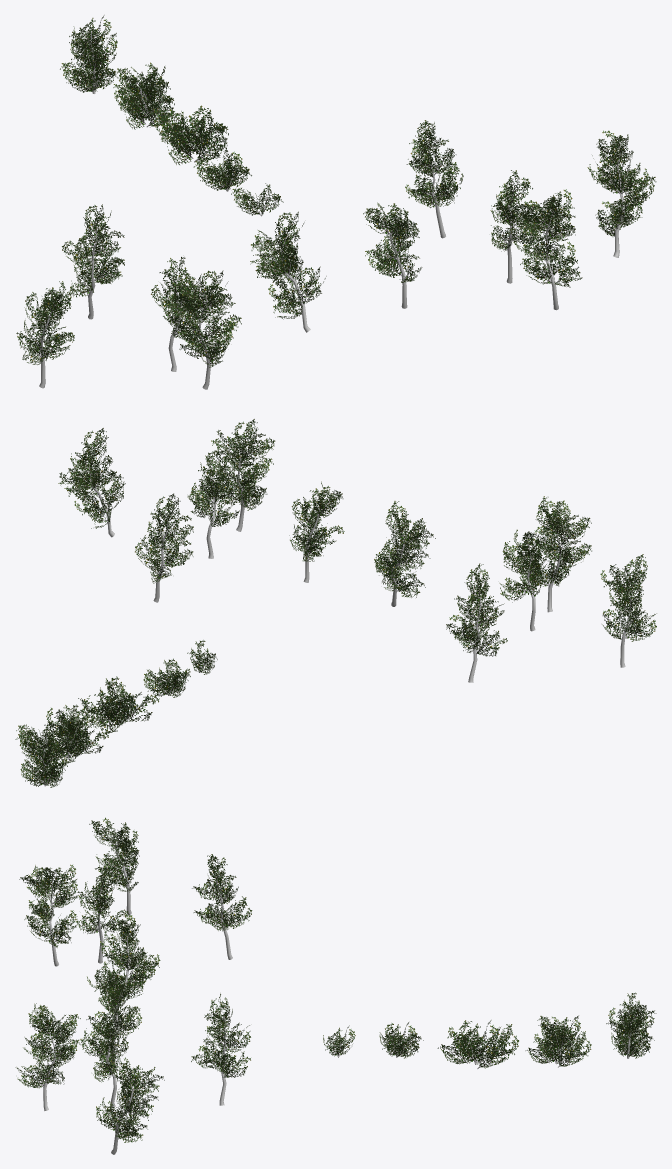
Rendered from Foliage.FBX.
3 views of the same model, one above another, from view 1: azimuth 30°, elevation 25°; view 2: azimuth 150°, elevation 25°; view 3: azimuth 270°, elevation 25° (orthographic). The views are drawn at different scales.
Visible parts, largest first — view 1: Tree_E_V01, Tree_E_V02, Tree_B_V02, Tree_B_V01, Tree_A_V02, Tree_A_V01, Tree_C_V01, Tree_C_V02, Bush_C, Bush_E, Bush_D, Tree_D_V01 (+3 smaller); view 2: Tree_E_V01, Tree_E_V02, Tree_B_V01, Tree_B_V02, Tree_C_V02, Tree_A_V02, Tree_A_V01, Tree_C_V01, Bush_E, Tree_D_V01, Tree_D_V02, Bush_C (+2 smaller); view 3: Tree_E_V01, Tree_E_V02, Tree_B_V01, Tree_A_V01, Tree_B_V02, Tree_A_V02, Tree_C_V01, Bush_C, Tree_C_V02, Bush_D, Bush_E, Tree_D_V01 (+3 smaller).
Part boxes in pixels (<box>): Tree_E_V01: <box>513,189,582,310</box>; Tree_E_V02: <box>166,270,241,389</box>; Tree_B_V02: <box>250,211,326,332</box>; Tree_B_V01: <box>587,130,656,257</box>; Tree_A_V02: <box>62,204,124,319</box>; Tree_A_V01: <box>405,120,463,238</box>; Tree_C_V01: <box>363,202,422,308</box>; Tree_C_V02: <box>16,281,74,388</box>; Bush_C: <box>152,105,228,164</box>; Bush_E: <box>60,15,118,93</box>; Bush_D: <box>113,62,174,129</box>; Tree_D_V01: <box>490,170,545,283</box>; Tree_E_V01: <box>207,419,275,531</box>; Tree_E_V02: <box>518,496,591,612</box>; Tree_B_V01: <box>58,428,125,537</box>; Tree_B_V02: <box>374,501,435,606</box>; Tree_C_V02: <box>600,554,656,667</box>; Tree_A_V02: <box>446,563,507,682</box>; Tree_A_V01: <box>135,493,193,602</box>; Tree_C_V01: <box>289,481,344,582</box>; Bush_E: <box>15,720,67,787</box>; Tree_D_V01: <box>187,451,239,558</box>; Tree_D_V02: <box>499,529,547,631</box>; Bush_C: <box>78,676,159,733</box>; Tree_E_V01: <box>15,1003,81,1110</box>; Tree_E_V02: <box>19,864,78,966</box>; Tree_B_V01: <box>96,1054,164,1154</box>; Tree_A_V01: <box>191,993,250,1105</box>; Tree_B_V02: <box>100,914,160,1022</box>; Tree_A_V02: <box>192,854,252,959</box>; Tree_C_V01: <box>86,954,141,1062</box>; Bush_C: <box>437,1020,518,1068</box>; Tree_C_V02: <box>89,817,139,914</box>; Bush_D: <box>525,1015,591,1067</box>; Bush_E: <box>606,992,656,1058</box>; Tree_D_V01: <box>80,1014,128,1107</box>.
Size of the model in its own units: 1847 by 348 by 1861.
